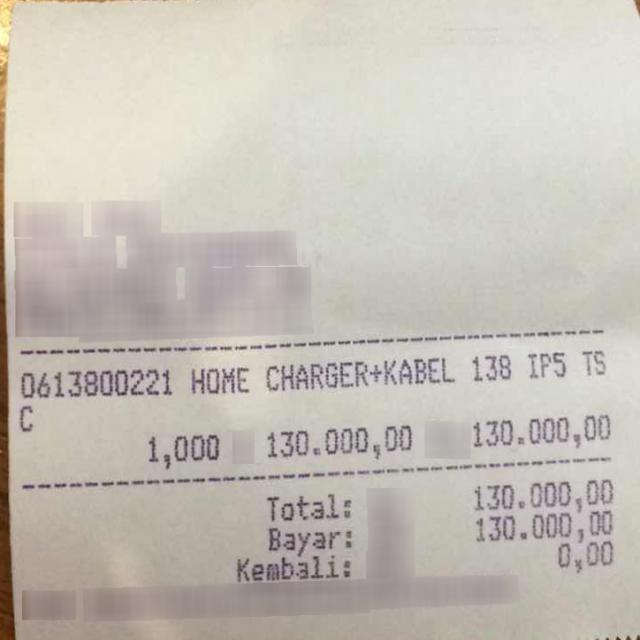text: (265, 355, 453, 389), (266, 423, 411, 460), (471, 413, 608, 451), (16, 364, 171, 397), (475, 510, 611, 543), (471, 478, 611, 510), (236, 553, 349, 583), (265, 524, 350, 556), (147, 431, 219, 468), (266, 491, 349, 519), (555, 541, 613, 572), (189, 366, 248, 393), (527, 350, 564, 377), (471, 353, 509, 379), (15, 404, 35, 432), (582, 349, 604, 373)
